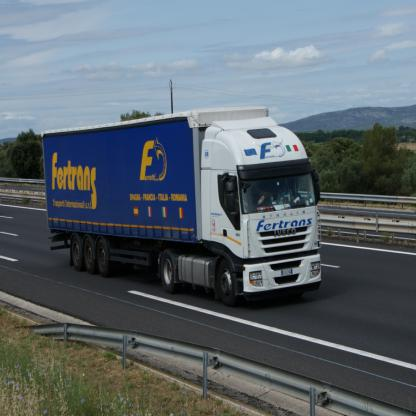Truck: (38, 100, 335, 308)
